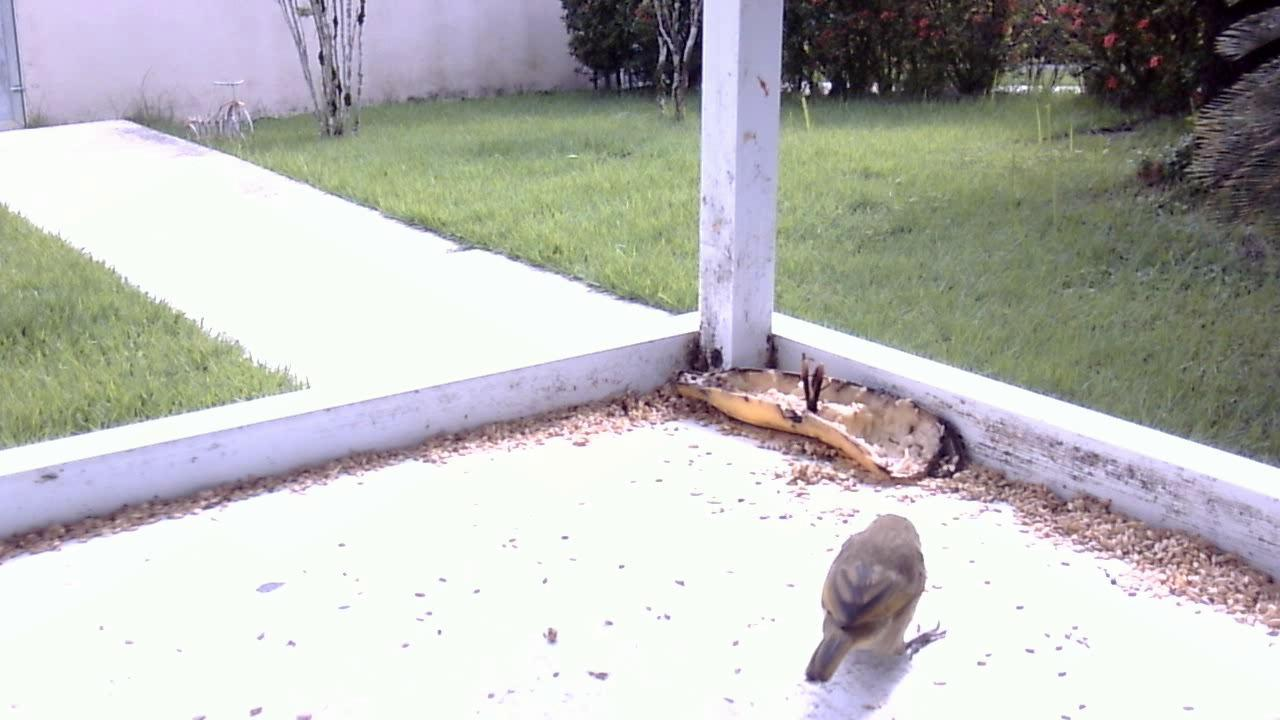canario_do_amazonas: (796, 505, 952, 701)
